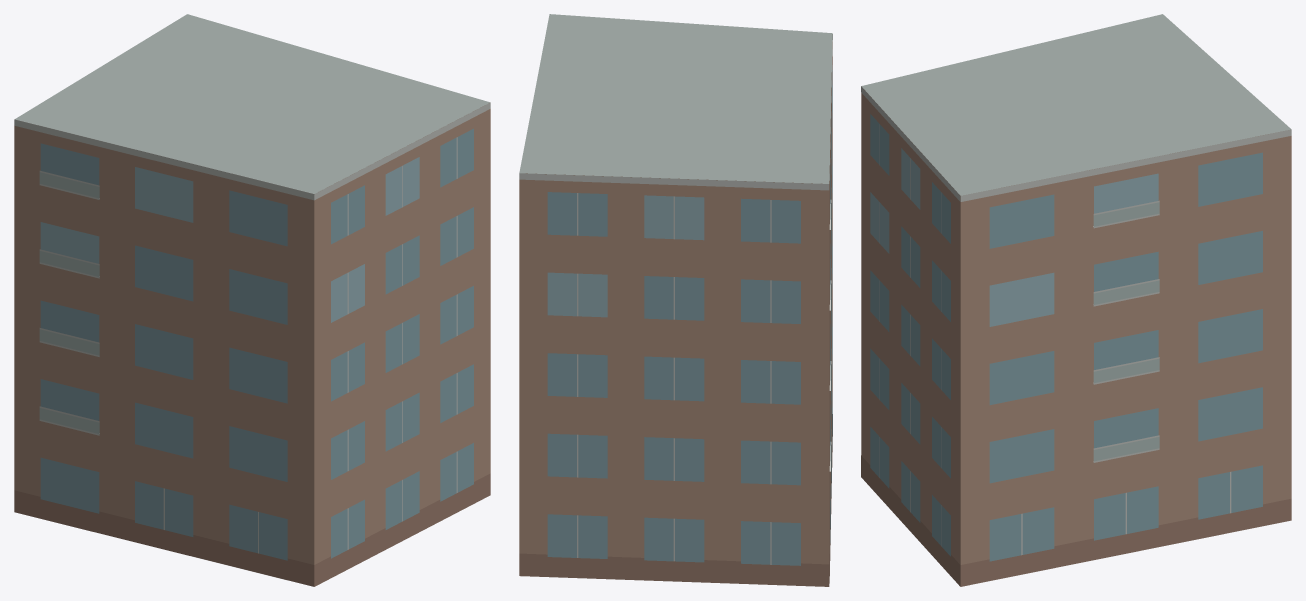
File: survey-upis-33044473.glb
3 views of the same model, side by side, from view 1: azimuth 30°, elevation 25°; view 2: azimuth 150°, elevation 25°; view 3: azimuth 270°, elevation 25° (orthographic). The views are drawn at different scales.
Parts seen in each view (by area): view 1: survey-upis-33044473.tmp; view 2: survey-upis-33044473.tmp; view 3: survey-upis-33044473.tmp.
Part boxes in pixels (x1=…): survey-upis-33044473.tmp: x1=14, y1=14, x2=490, y2=586; survey-upis-33044473.tmp: x1=519, y1=14, x2=832, y2=586; survey-upis-33044473.tmp: x1=861, y1=14, x2=1291, y2=586.
Size of the model in its own units: 15.23 by 15.25 by 15.23.
